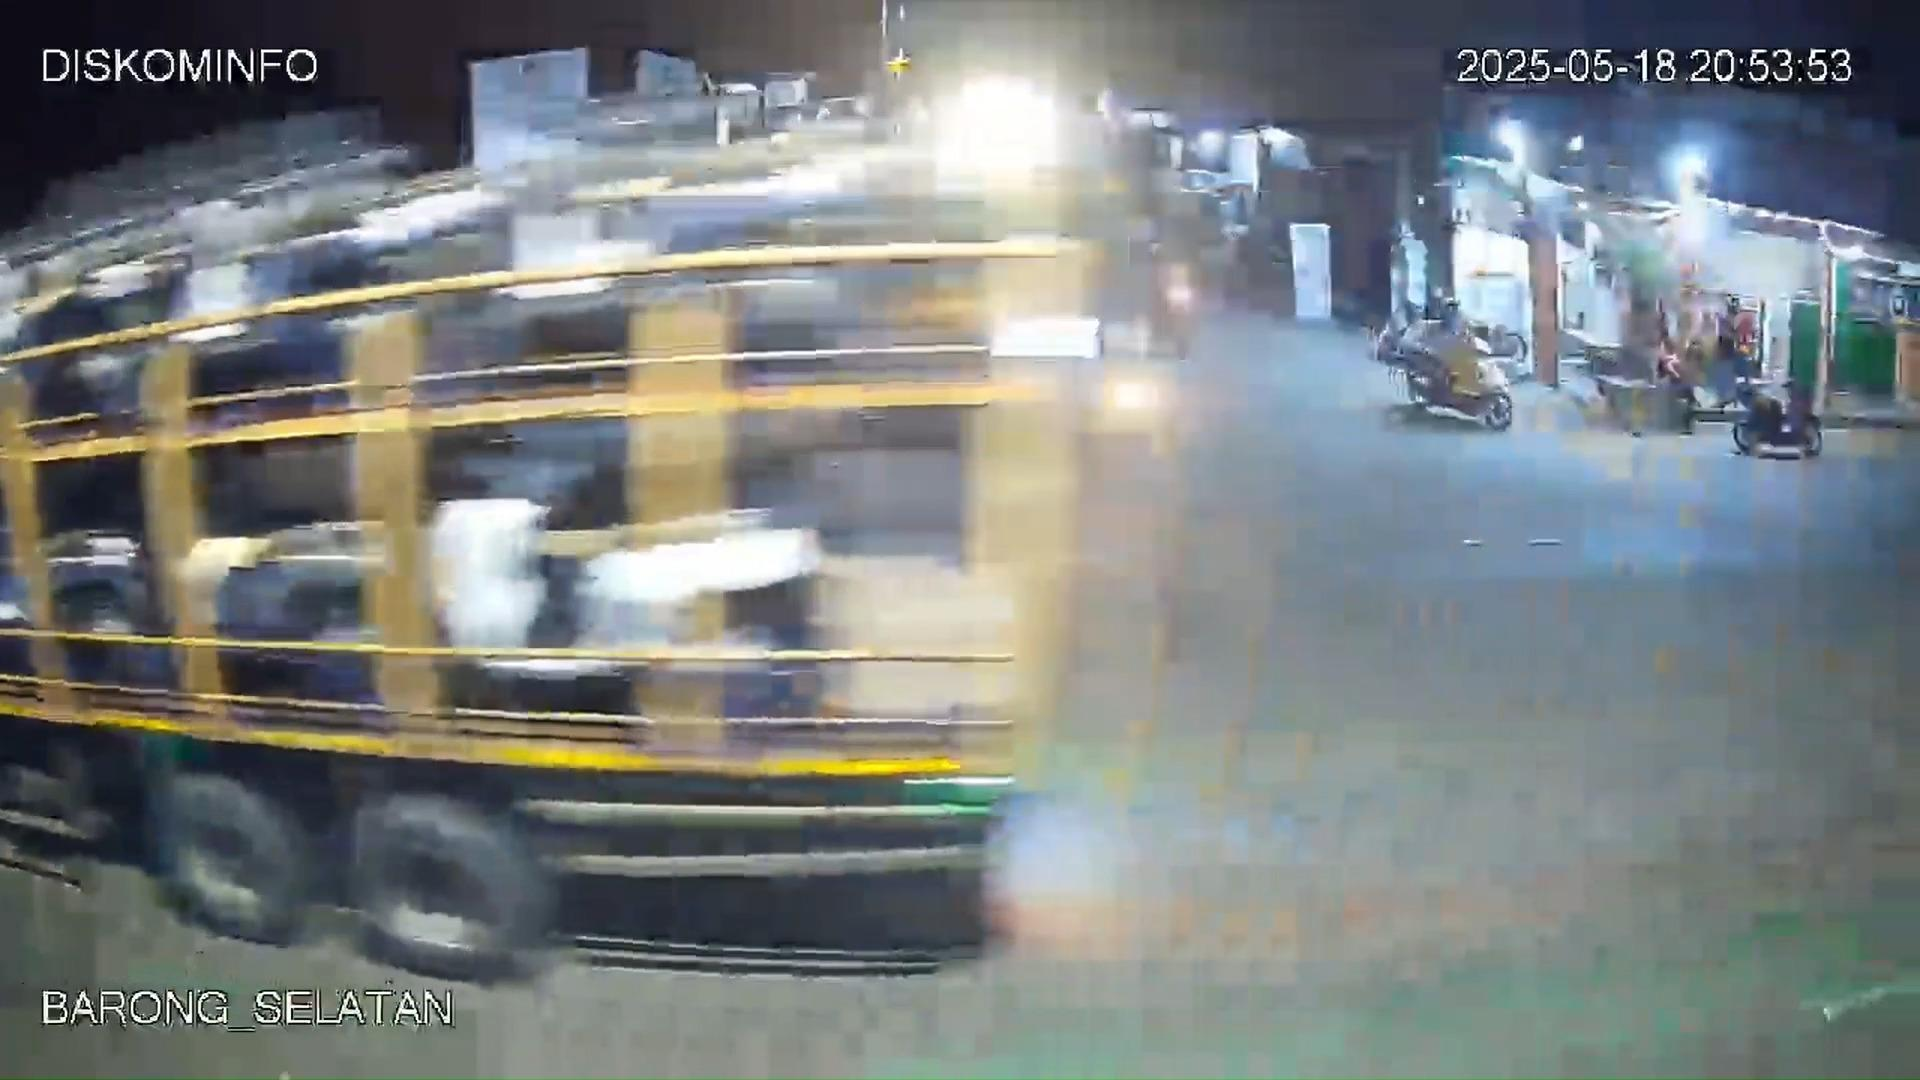Motor: (1367, 298, 1538, 447)
Truck: (0, 140, 1059, 978)
